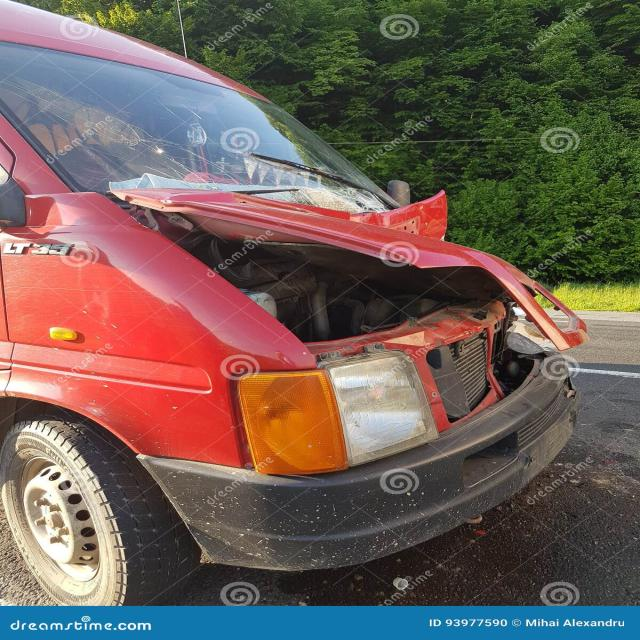crush: (0, 43, 594, 438)
